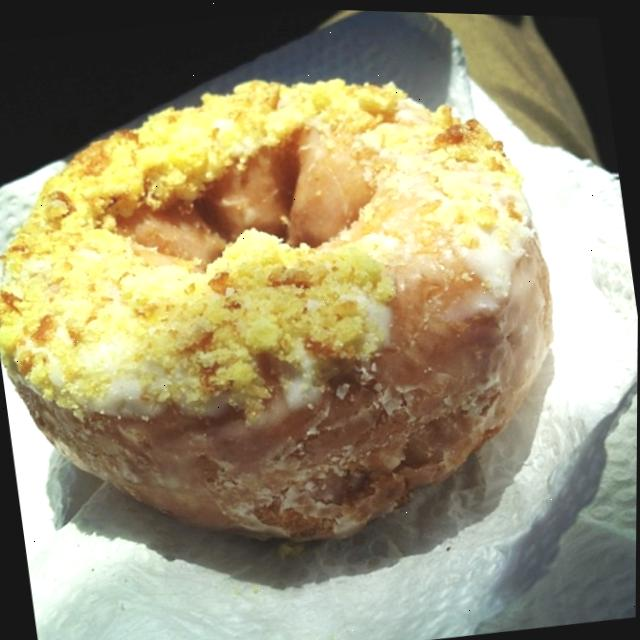炸货点心: (0, 1, 582, 608)
